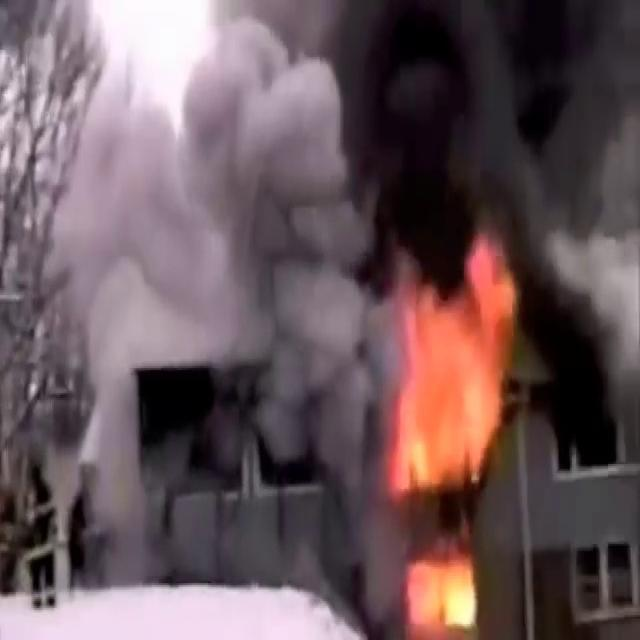Fire: (380, 227, 512, 498), (406, 547, 474, 640)
Smoke: (56, 0, 371, 584), (350, 0, 640, 286)
